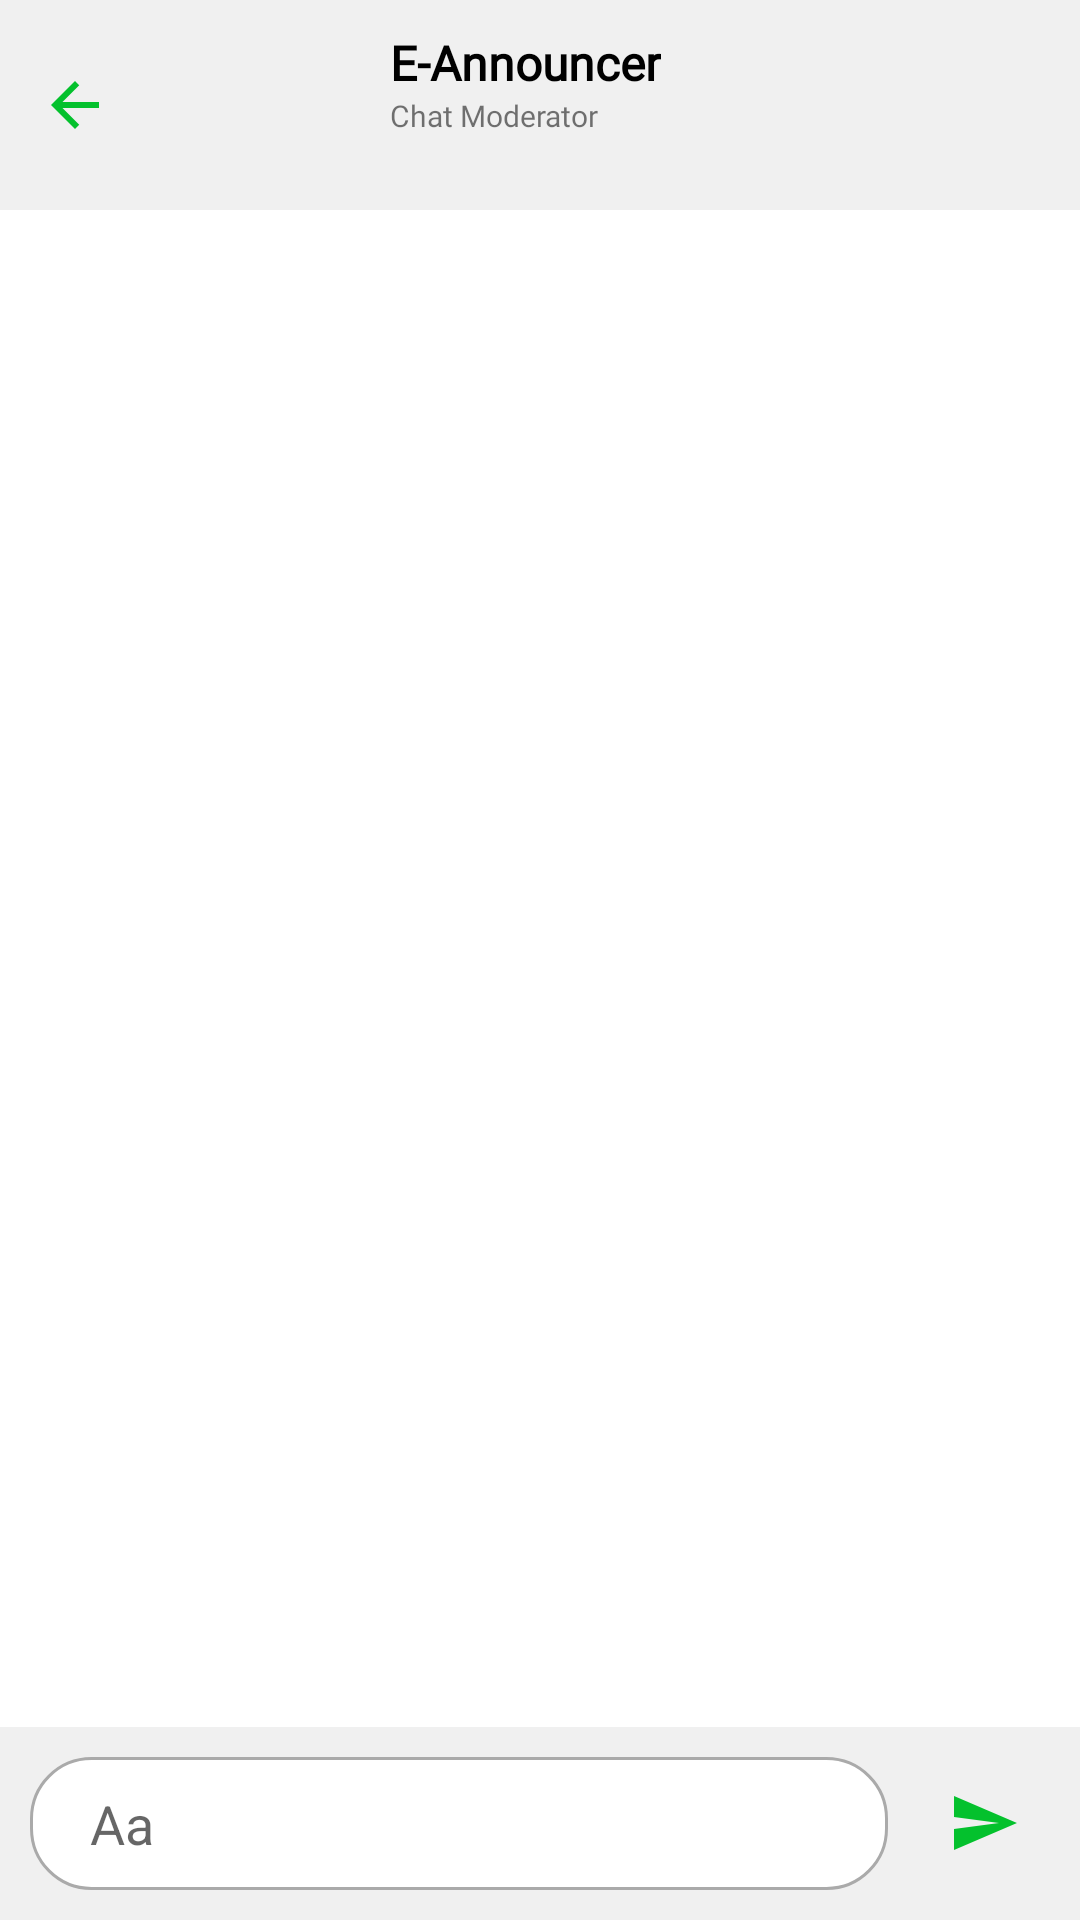

Named icons in this screenshot (1080x1920) and their centers, (x=x, y=y):
chat bot back: (x=75, y=105)
chat bot send: (x=985, y=1823)
